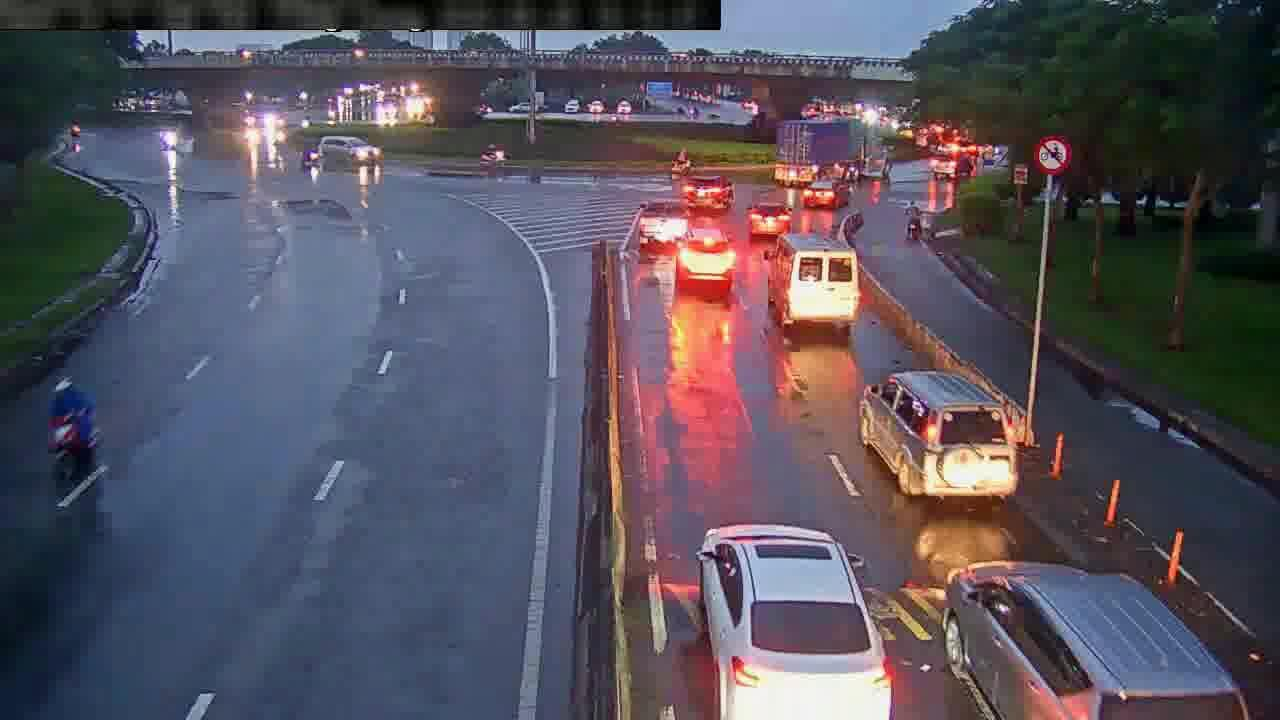14: (765, 229, 861, 335), (632, 197, 688, 251)
8: (770, 113, 895, 183), (48, 370, 104, 476)
container: (942, 561, 1254, 720), (698, 520, 894, 720), (856, 369, 1019, 507), (671, 224, 731, 288), (318, 131, 385, 167), (683, 171, 736, 209), (747, 200, 795, 239), (802, 178, 850, 209)
